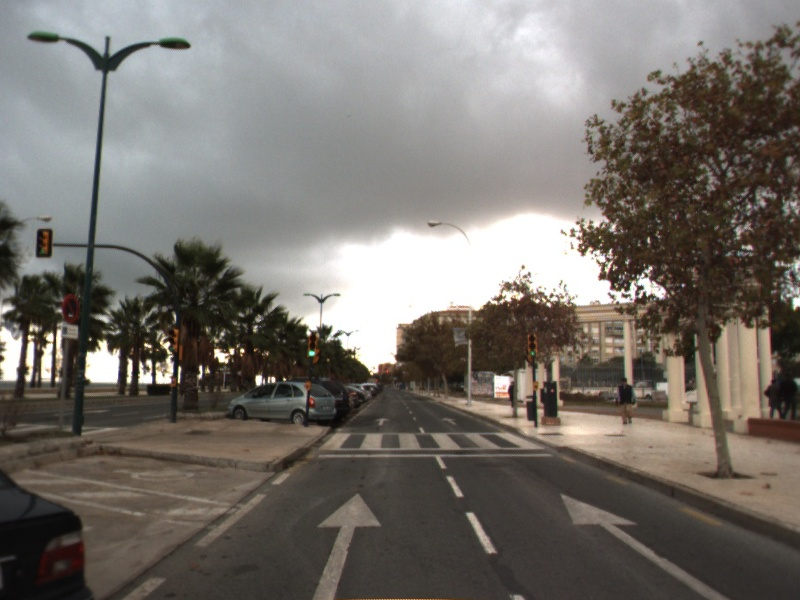STRAIGHT: (557, 490, 731, 600), (312, 489, 386, 600), (439, 416, 459, 427), (374, 416, 391, 427)
